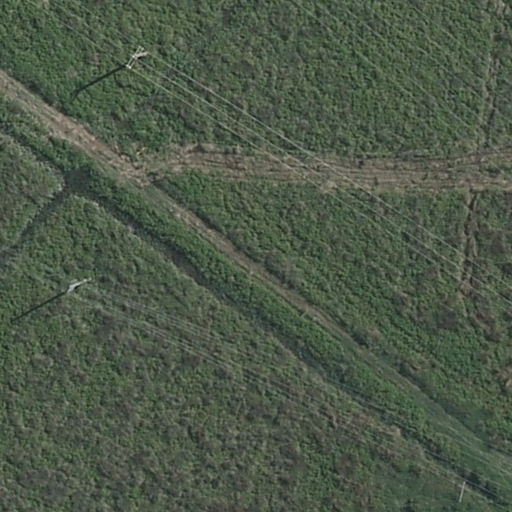DT: (62, 275, 92, 292), (127, 47, 149, 67)
